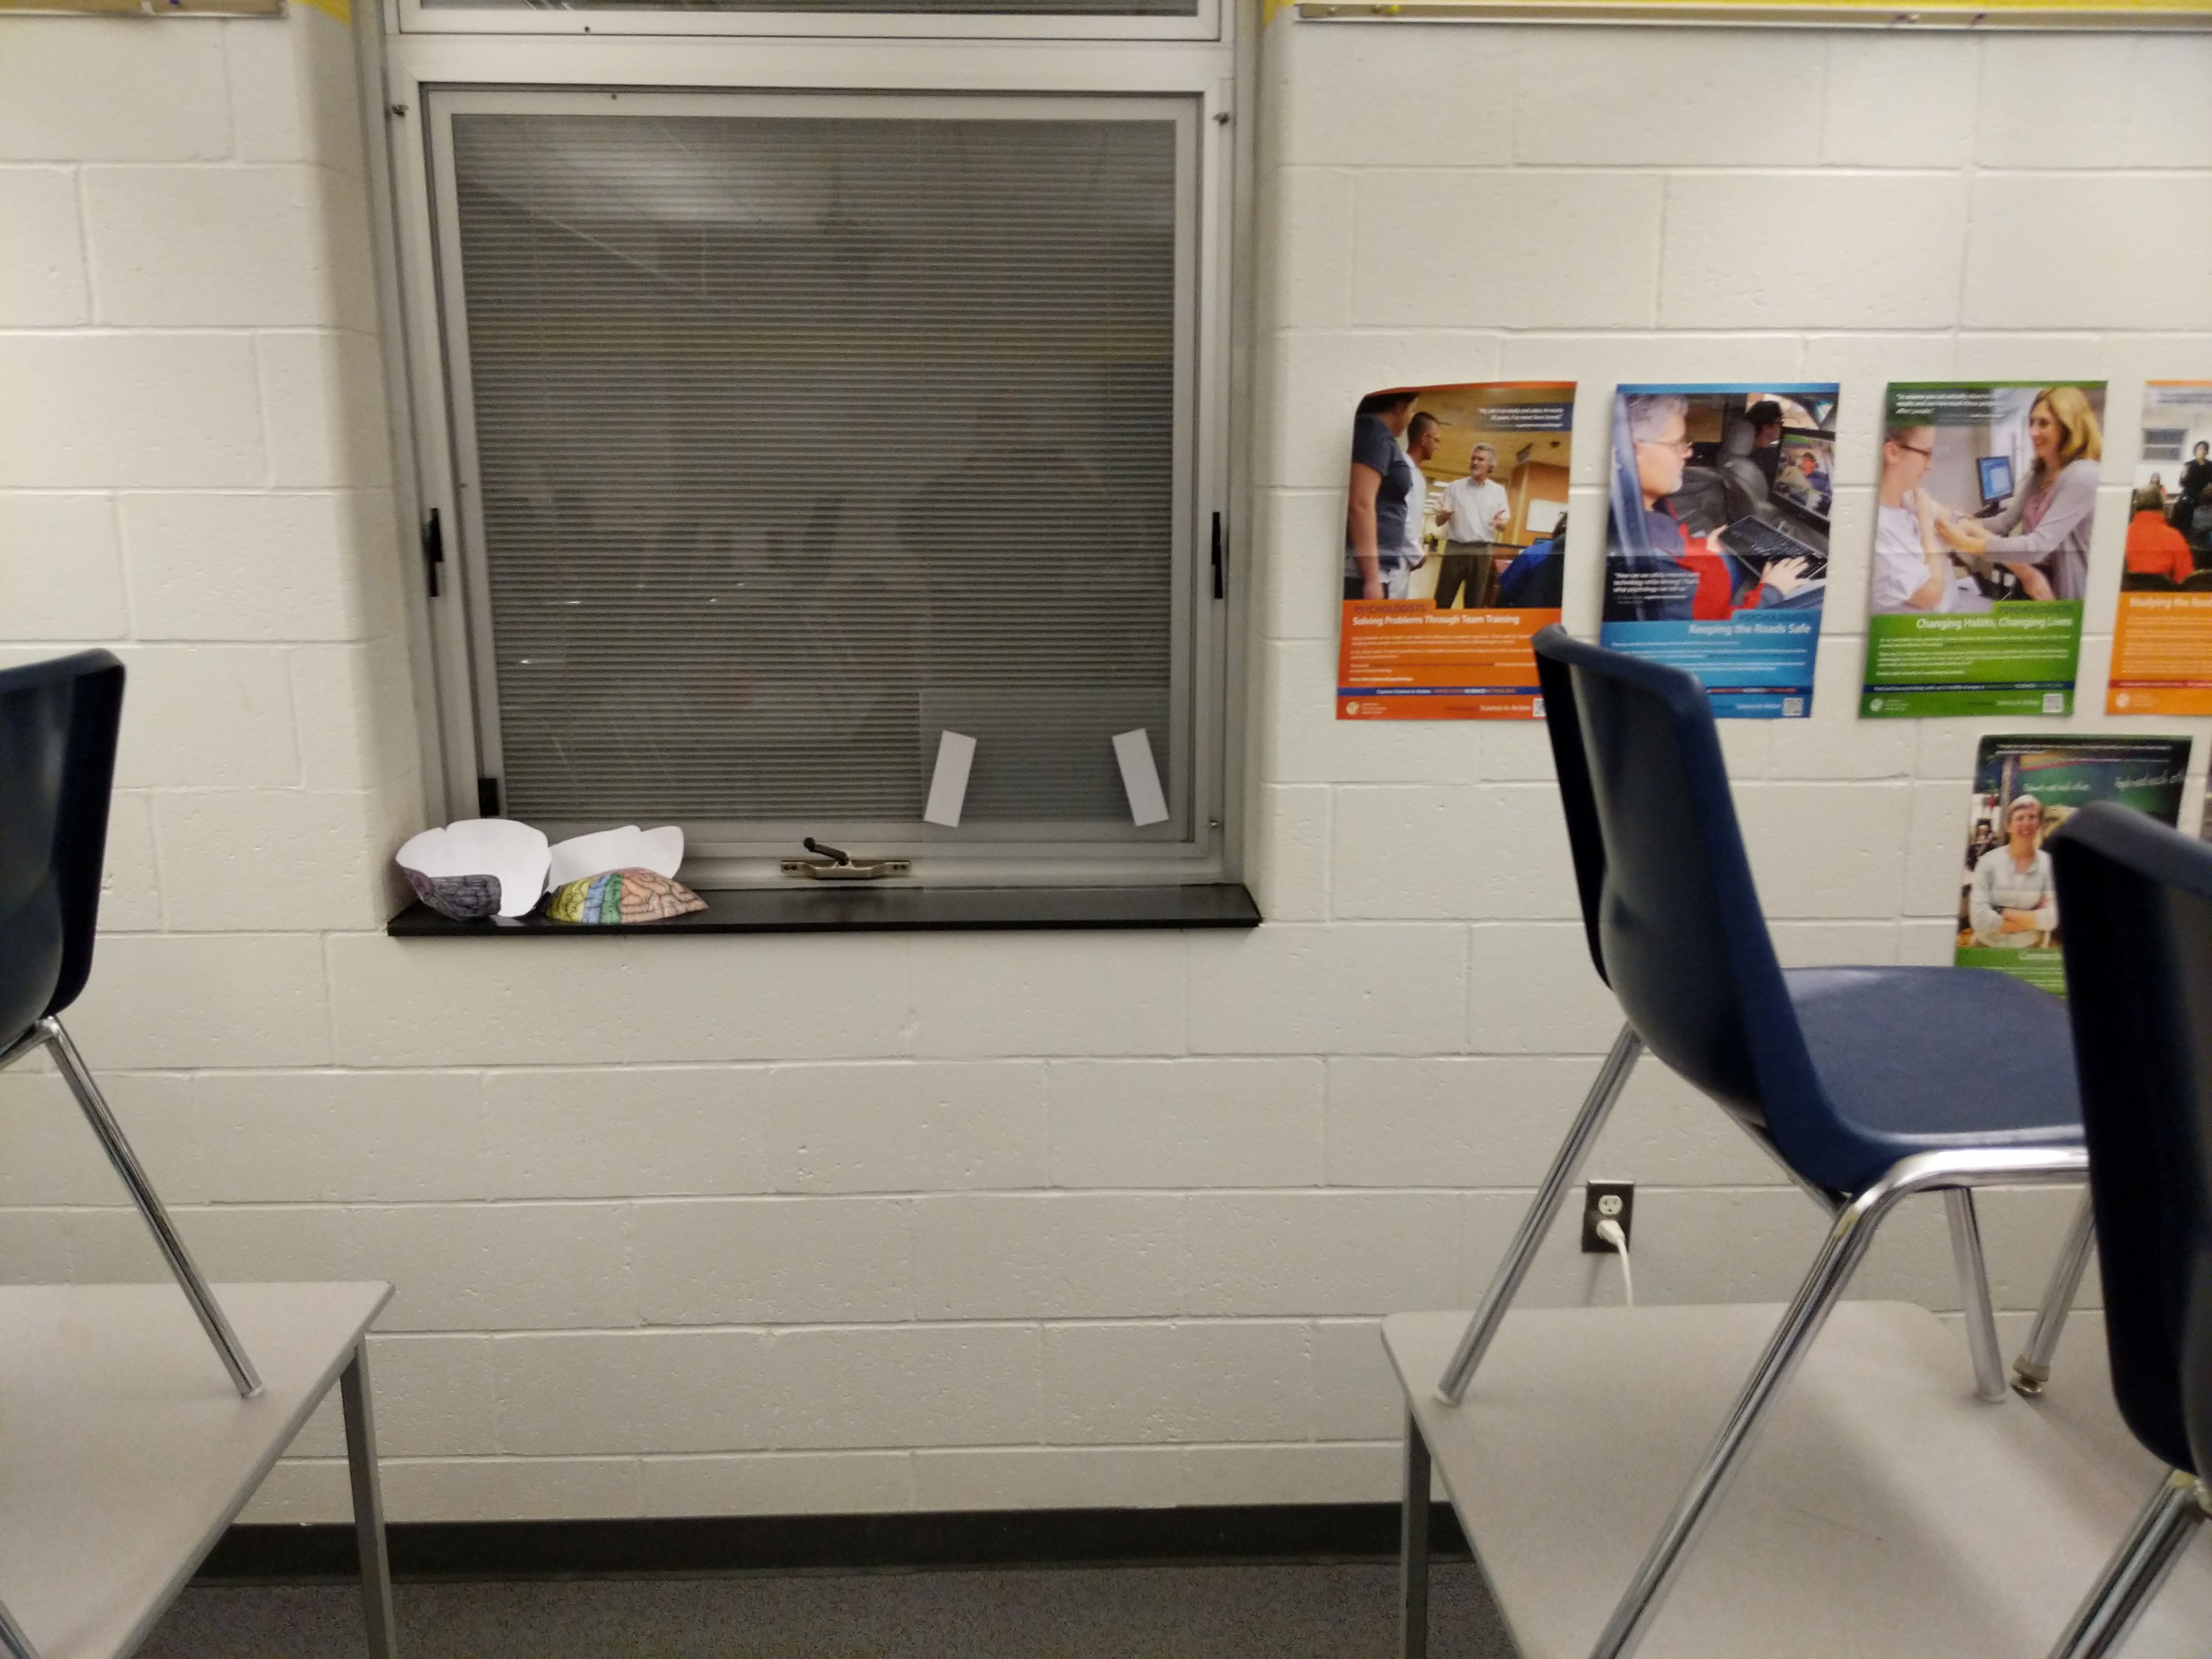vision_target: (914, 718, 1181, 819)
